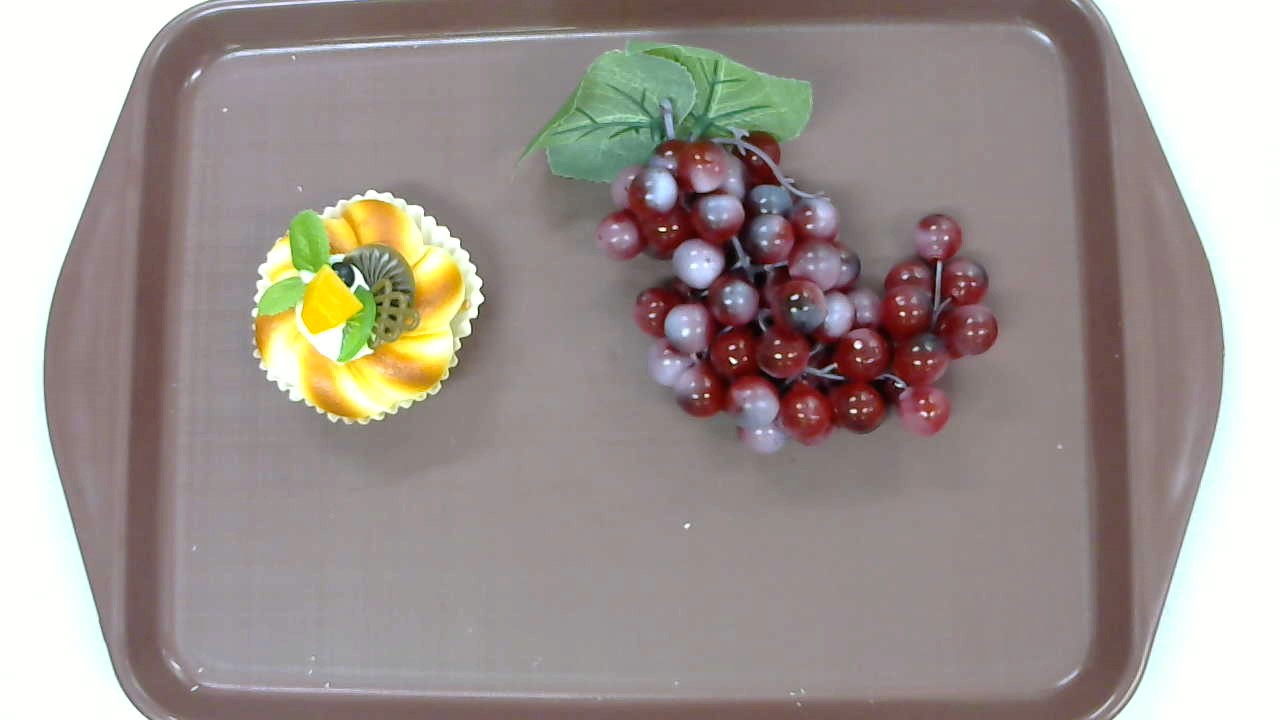fruit tart: (251, 189, 486, 427)
grape: (516, 34, 999, 453)
